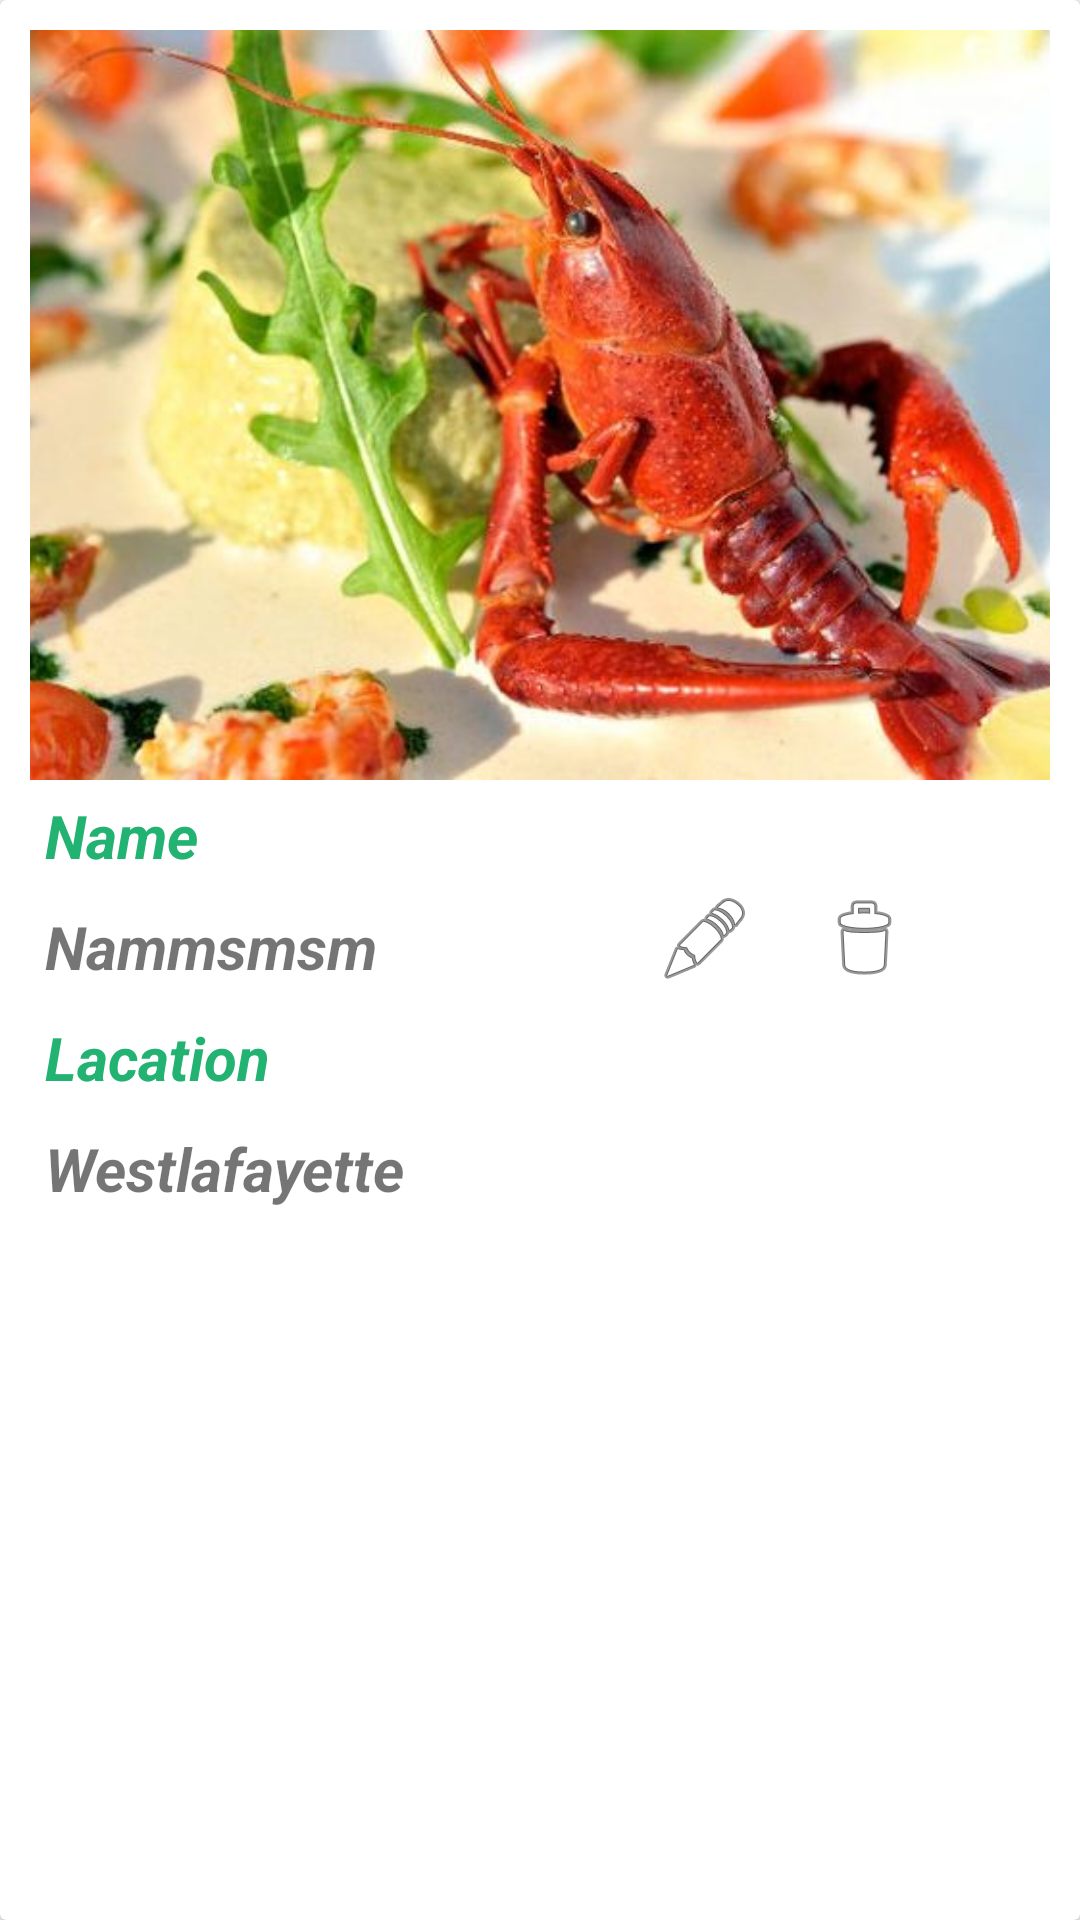

Icons on this 1080px×1920px Android screen, each with the point to tap as [x,y]:
delete: [864,937]
edit: [704,938]
